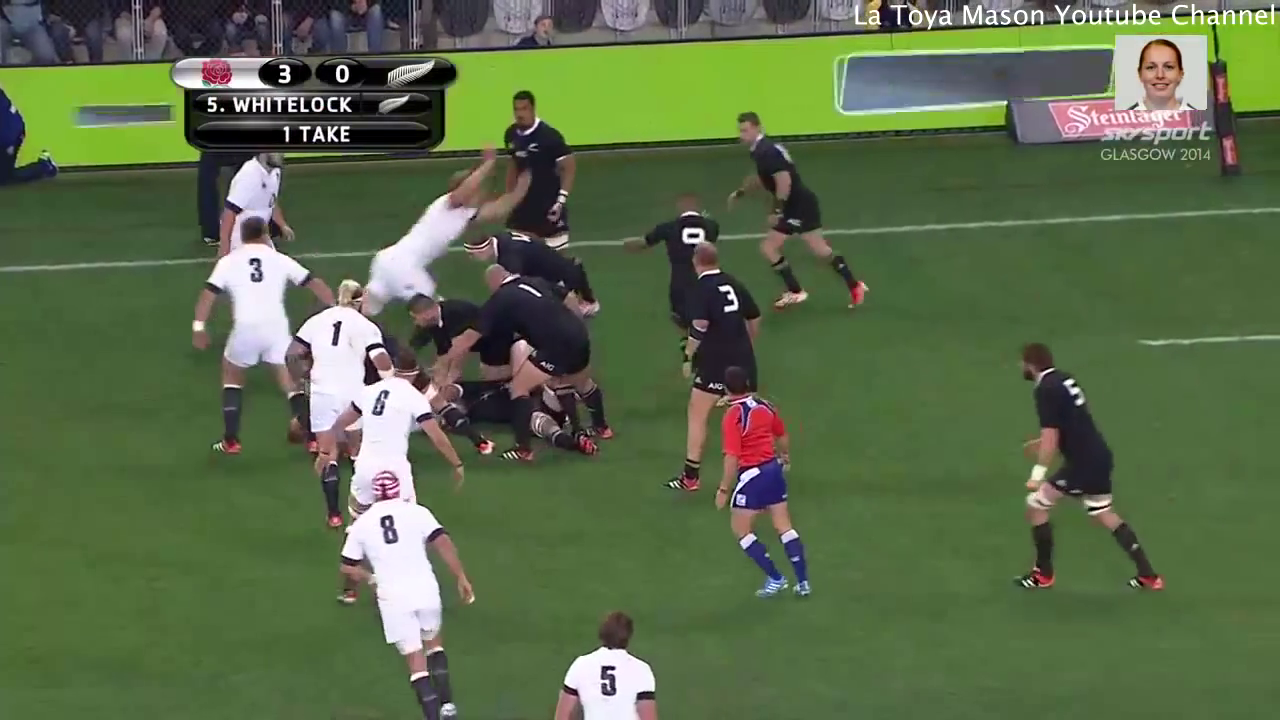player: (997, 339, 1179, 605), (432, 252, 627, 470), (180, 206, 325, 471), (331, 143, 537, 328), (337, 464, 482, 720), (713, 100, 877, 315), (317, 336, 471, 552), (657, 240, 775, 515), (282, 267, 397, 531), (706, 357, 825, 612), (485, 84, 585, 266), (624, 179, 732, 329), (537, 600, 662, 720), (205, 144, 293, 279), (385, 276, 505, 364)
ruck: (321, 265, 601, 454)
